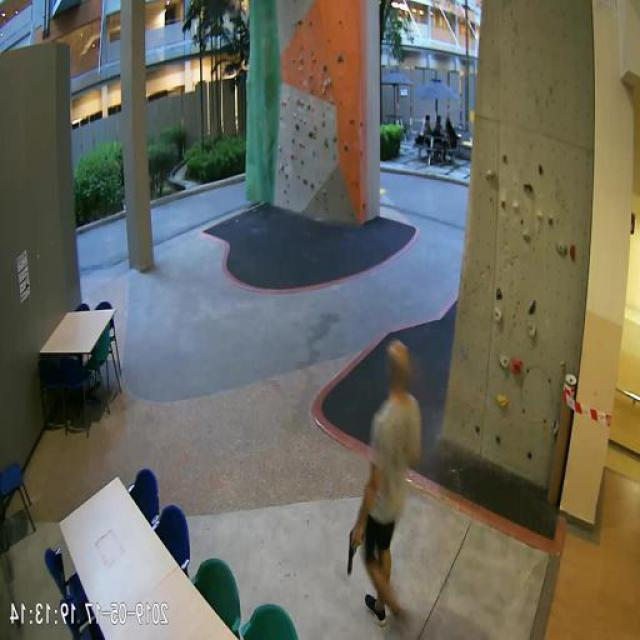Gun: (349, 524, 365, 574)
